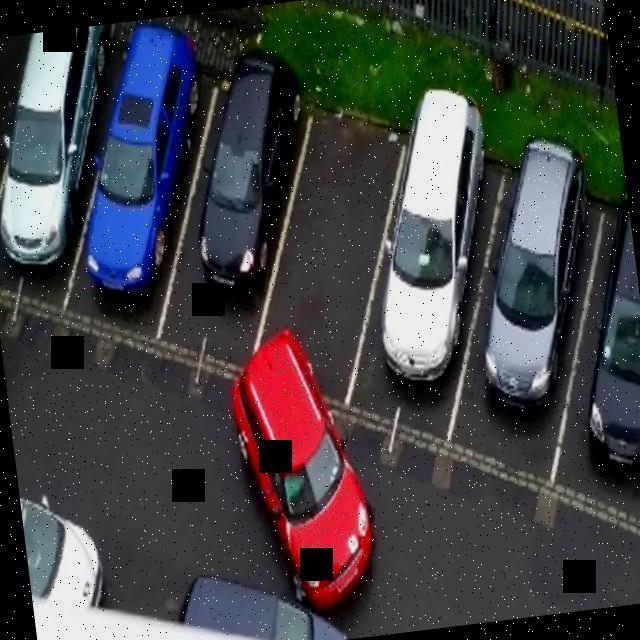space-occupied: (43, 11, 254, 366), (323, 109, 539, 443), (426, 138, 635, 478), (132, 55, 336, 402), (225, 85, 434, 420), (0, 22, 155, 342), (523, 190, 640, 535)
